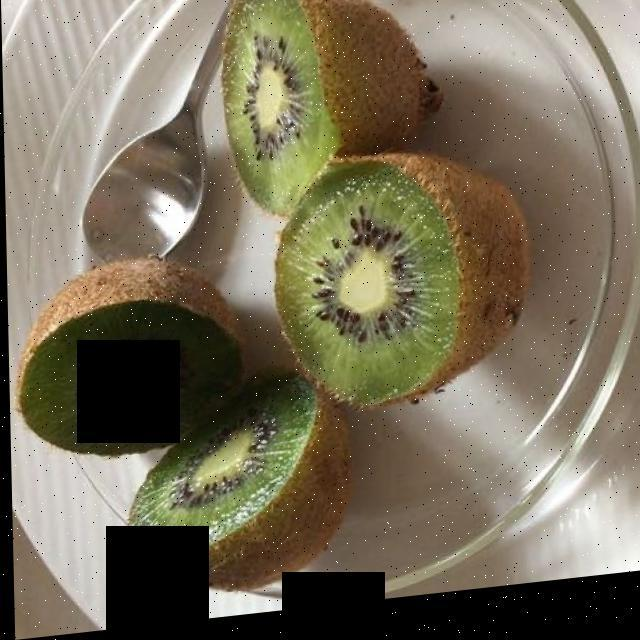kiwi: (273, 155, 530, 405), (124, 367, 354, 590), (220, 0, 442, 221), (20, 262, 250, 457)
